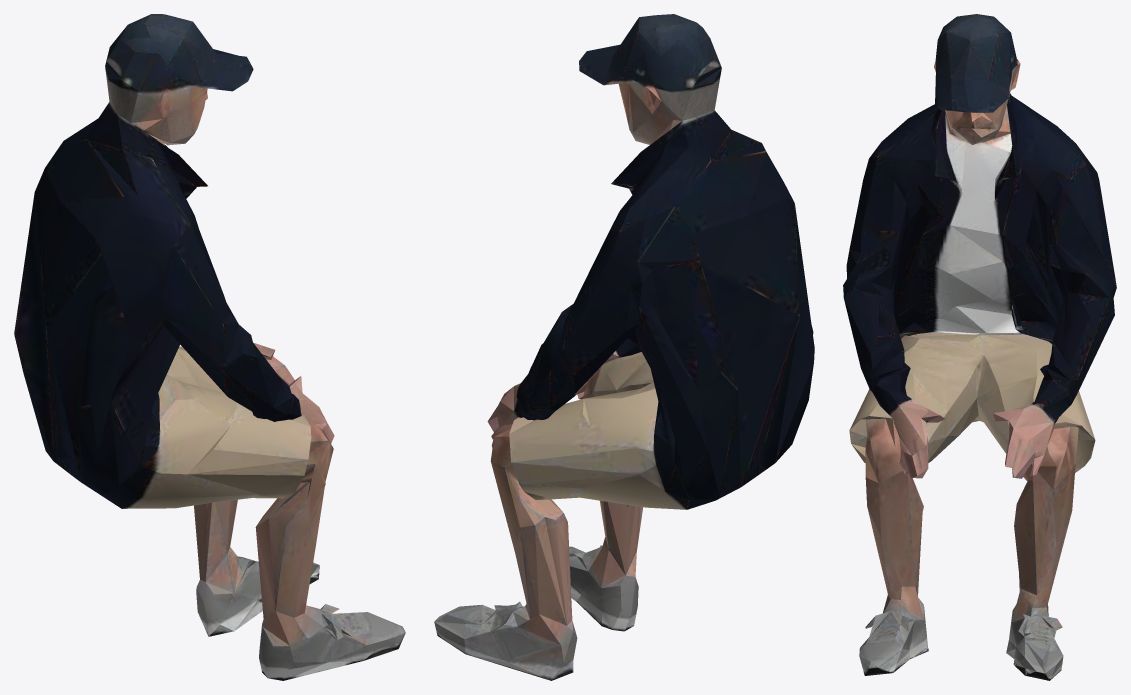
Rendered from crowd-fan-4.glb.
3 renders of one model, left to right at view 1: azimuth 30°, elevation 25°; view 2: azimuth 150°, elevation 25°; view 3: azimuth 270°, elevation 25°, orthographic. The views are drawn at different scales.
Visible parts, largest first — view 1: char1; view 2: char1; view 3: char1.
Boxes of the visible parts, left/top/right/bottom form: char1: left=14, top=14, right=405, bottom=680; char1: left=434, top=14, right=814, bottom=680; char1: left=843, top=14, right=1116, bottom=680.
Bounding box in the file's own units: 0.7108 × 1.4 × 0.5813.
Materials: 1 (1 with a texture image).
